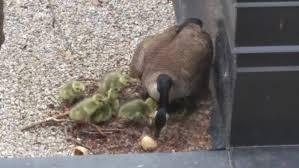goose: (125, 13, 215, 134)
